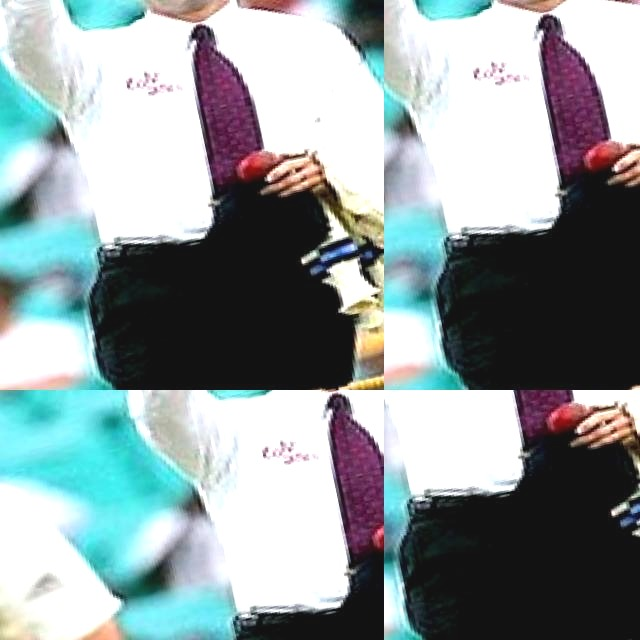Out: (384, 390, 640, 640)
Six: (527, 0, 640, 390)
